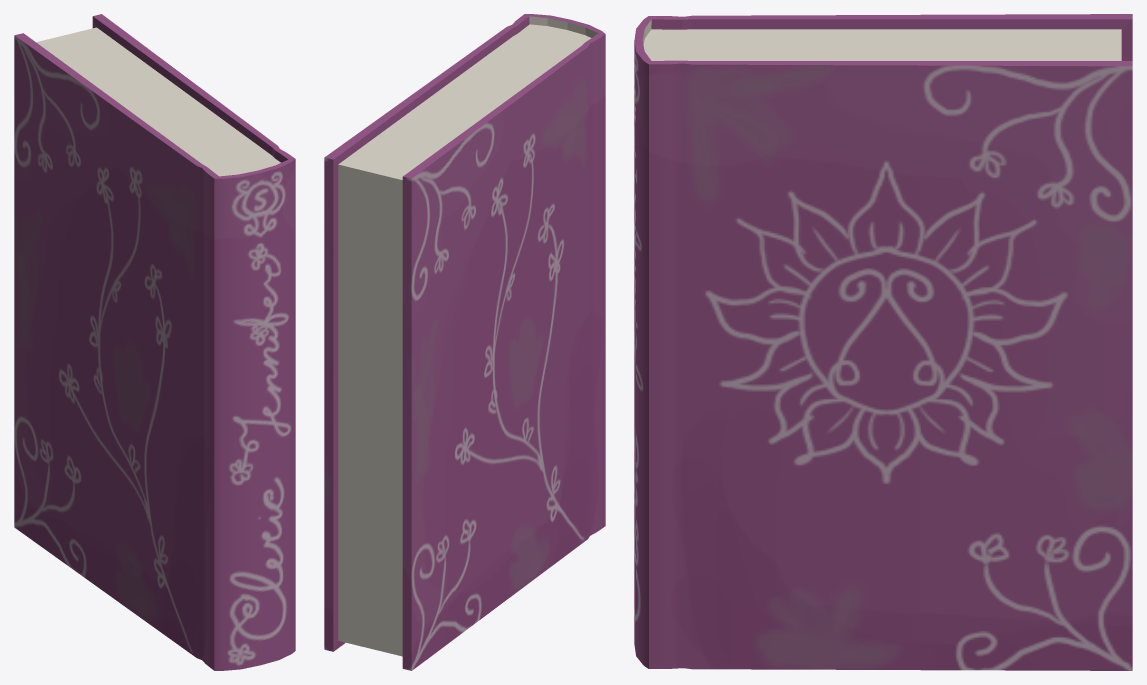
Rendered from Book_Tall.fbx.
3 renders of one model, left to right at view 1: azimuth 30°, elevation 25°; view 2: azimuth 150°, elevation 25°; view 3: azimuth 270°, elevation 25°, orthographic. The views are drawn at different scales.
Parts seen in each view (by area): view 1: book; view 2: book; view 3: book.
Part boxes in pixels (bbox=[...]): book: bbox=[14, 14, 295, 670]; book: bbox=[324, 14, 605, 670]; book: bbox=[634, 14, 1132, 670].
Bounding box in the file's own units: 79.33 × 427 × 319.
